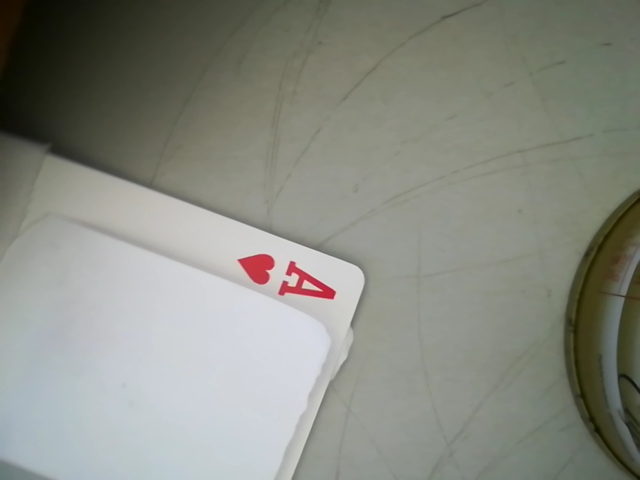hx a: (229, 246, 356, 308)
